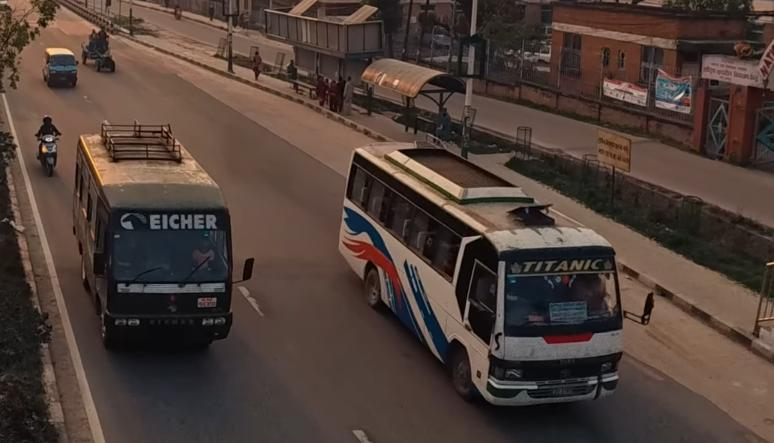bus: (327, 132, 661, 427), (71, 115, 259, 367)
